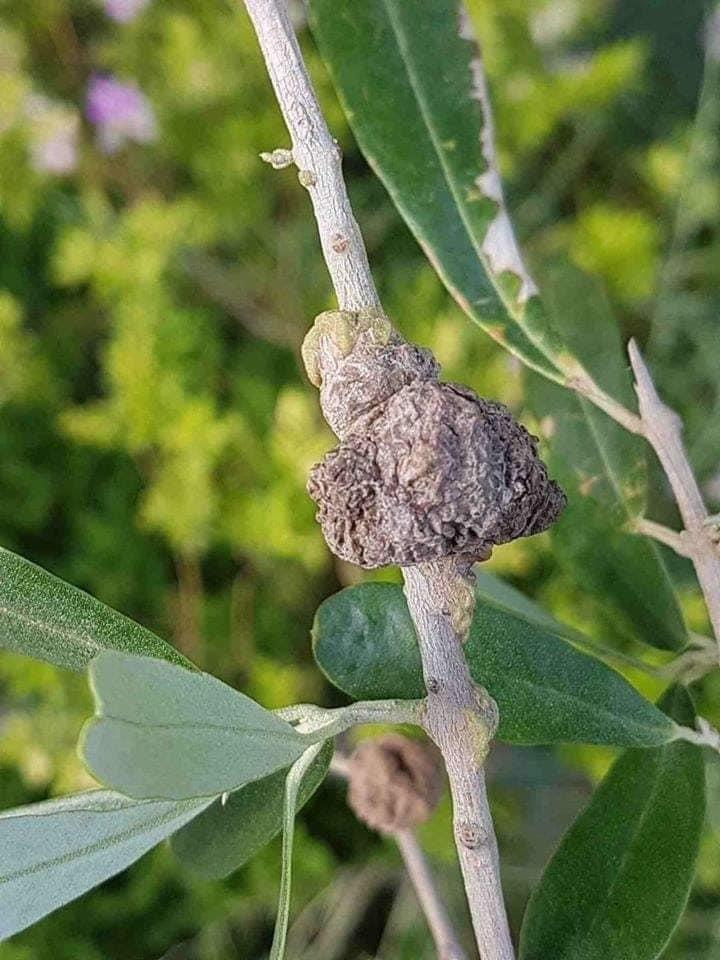Tuberculosis: (279, 298, 580, 574)
